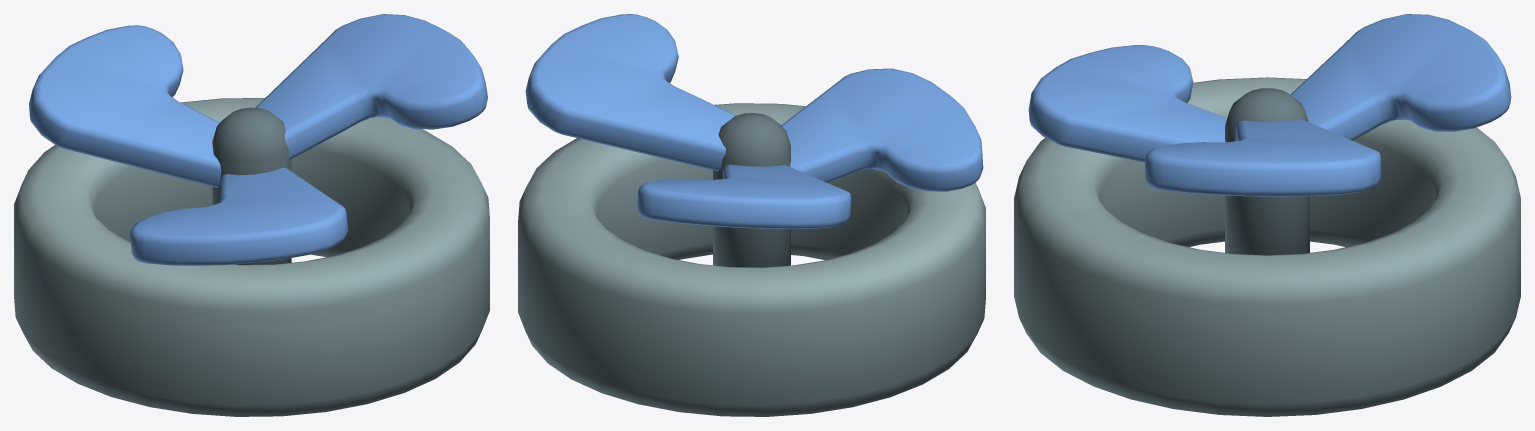
Rendered from Fan.fbx.
The picture shows the model from 3 angles, left to right: view 1: azimuth 30°, elevation 25°; view 2: azimuth 150°, elevation 25°; view 3: azimuth 270°, elevation 25°; orthographic projection. The views are drawn at different scales.
Parts seen in each view (by area): view 1: Circle.021, Circle.022, Circle.023, Circle.024, Cylinder.017; view 2: Circle.021, Circle.023, Circle.024, Circle.022, Cylinder.017; view 3: Circle.021, Circle.022, Circle.024, Circle.023, Cylinder.017.
Part boxes in pixels (x1,y1,x2,y2): Circle.021: (14,98,489,416); Circle.022: (29,25,221,187); Circle.023: (255,14,487,159); Circle.024: (130,167,347,265); Cylinder.017: (212,107,291,264); Circle.021: (518,103,985,416); Circle.023: (525,14,735,171); Circle.024: (781,68,983,191); Circle.022: (637,164,851,229); Cylinder.017: (713,113,790,267); Circle.021: (1014,77,1520,416); Circle.022: (1290,14,1511,140); Circle.024: (1028,45,1227,162); Circle.023: (1145,119,1380,196); Cylinder.017: (1225,88,1309,255).
Size of the model in its own units: 4.09 by 2.3 by 4.09.
